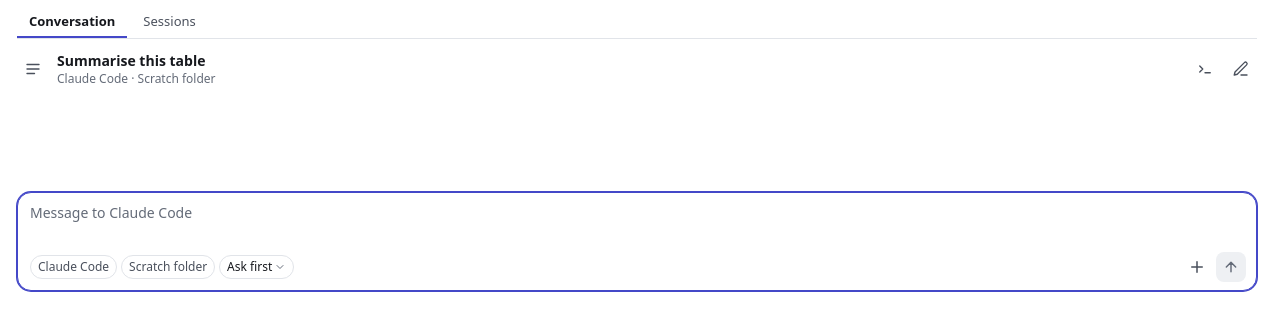
023 agent output in the conversation details › stops saying Loading… when no reply comes (a refused request, or output wiped by a restart)
What coordinates should you click on to do the following:
click the button named "Agent output"
I would click on:
 (1205, 69)
Its box is 1189,53 -> 1221,85.
Wait 10000 ms
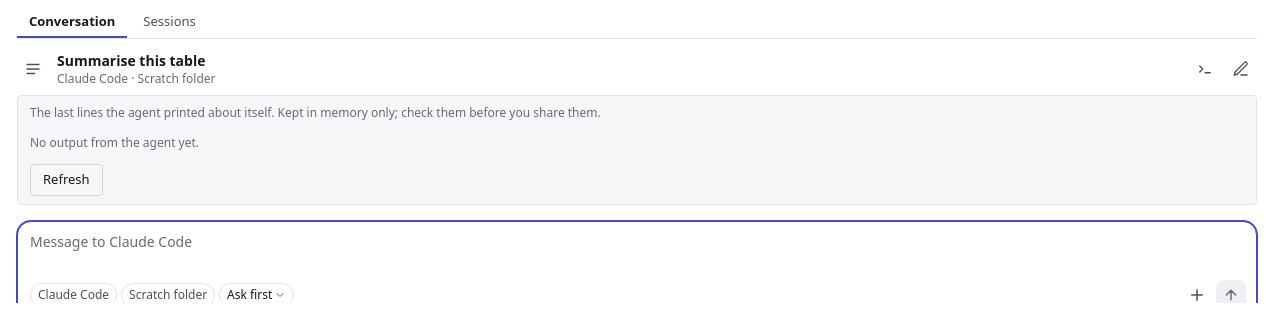
Result: the text "No output from the agent yet." is shown at 30,134 -> 199,152
